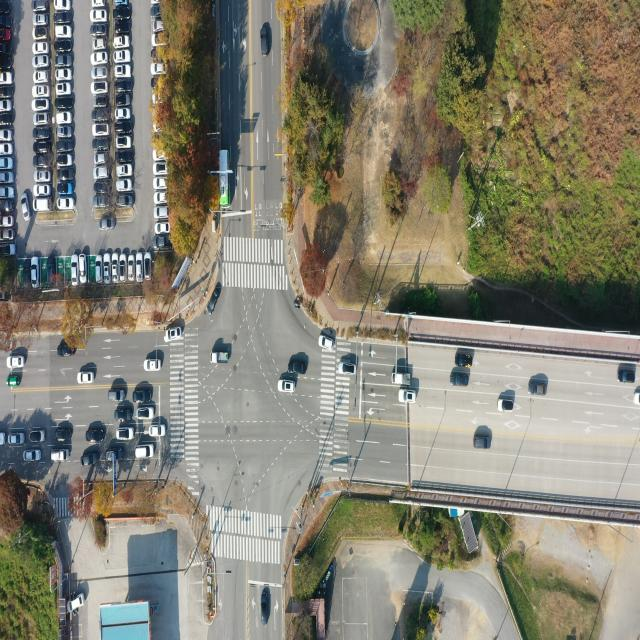car: (208, 286, 222, 316), (68, 592, 86, 615), (55, 38, 74, 54), (529, 383, 547, 398), (88, 429, 106, 444), (339, 362, 358, 376), (263, 23, 271, 55), (166, 327, 183, 342), (619, 371, 636, 386), (475, 438, 493, 452), (288, 361, 306, 375), (33, 200, 52, 213), (134, 391, 153, 404), (23, 257, 31, 287), (56, 26, 73, 40), (451, 374, 468, 388), (114, 6, 131, 20), (144, 359, 162, 372), (398, 390, 416, 403), (136, 446, 154, 459), (455, 355, 473, 368), (46, 257, 54, 286), (319, 337, 334, 352), (0, 84, 15, 99), (57, 56, 73, 70), (497, 398, 513, 412), (115, 94, 131, 108), (0, 55, 14, 71), (278, 381, 295, 394), (34, 129, 51, 142), (57, 428, 74, 441), (83, 454, 100, 467), (6, 356, 24, 368), (116, 428, 134, 440), (114, 411, 132, 423), (128, 256, 136, 283), (151, 33, 166, 47), (114, 66, 130, 79), (92, 9, 108, 22), (116, 179, 132, 192), (33, 99, 49, 112), (94, 125, 110, 138), (20, 196, 28, 222), (58, 156, 74, 169), (151, 425, 168, 437), (115, 166, 132, 178), (264, 588, 270, 622), (138, 409, 155, 421), (55, 11, 72, 23), (32, 260, 39, 289), (71, 258, 78, 286), (79, 255, 86, 283), (136, 256, 143, 284), (112, 256, 119, 284), (144, 252, 151, 280), (150, 49, 164, 63), (34, 57, 49, 70), (0, 187, 15, 200), (113, 36, 128, 49), (58, 112, 73, 125), (155, 237, 170, 250), (0, 243, 15, 256), (114, 52, 130, 64), (58, 199, 74, 211), (108, 390, 124, 402), (116, 196, 132, 208), (33, 87, 49, 99), (56, 69, 72, 81), (58, 140, 74, 152), (58, 184, 74, 196), (30, 430, 46, 442), (92, 26, 108, 38), (59, 170, 75, 182), (34, 142, 50, 154), (106, 450, 122, 462), (60, 346, 76, 358), (115, 124, 131, 136), (114, 22, 130, 34), (96, 257, 103, 284), (24, 451, 41, 462), (0, 72, 13, 86), (116, 137, 130, 150), (101, 218, 115, 231), (151, 63, 165, 76), (118, 257, 125, 283), (116, 77, 130, 90), (0, 115, 13, 129), (78, 373, 93, 385), (57, 85, 72, 97), (35, 172, 50, 184), (115, 108, 130, 120), (93, 54, 108, 66), (34, 72, 49, 84), (32, 0, 47, 12), (58, 128, 73, 140), (94, 140, 109, 152), (35, 185, 50, 197), (118, 150, 133, 162), (34, 113, 49, 125), (56, 0, 72, 11), (56, 97, 72, 108), (0, 159, 13, 172), (156, 208, 169, 221), (0, 143, 13, 156), (0, 173, 14, 185), (95, 168, 109, 180), (95, 198, 109, 210), (94, 68, 108, 80), (94, 84, 108, 96), (34, 42, 48, 54), (155, 164, 169, 176), (34, 158, 48, 170), (34, 13, 48, 25), (32, 116, 46, 128), (33, 28, 47, 40), (0, 13, 12, 27), (0, 2, 12, 16), (8, 433, 23, 444), (94, 109, 109, 120), (95, 182, 110, 193), (104, 257, 110, 284), (0, 100, 12, 113), (0, 130, 13, 142), (0, 28, 12, 41), (157, 222, 170, 234), (1, 231, 14, 243), (0, 217, 14, 228), (95, 98, 109, 109), (0, 42, 11, 56), (154, 192, 166, 204), (156, 178, 168, 190), (94, 39, 107, 50), (152, 150, 166, 160), (150, 6, 161, 17), (95, 156, 107, 166), (151, 76, 159, 90), (152, 22, 162, 33), (113, 0, 127, 7), (634, 391, 640, 407), (93, 0, 106, 7), (0, 432, 6, 444), (150, 0, 160, 6)
large_bus: (218, 150, 230, 206)
small_truck: (390, 373, 410, 388), (210, 352, 230, 364), (52, 450, 70, 463), (5, 378, 20, 388), (2, 200, 14, 212)
